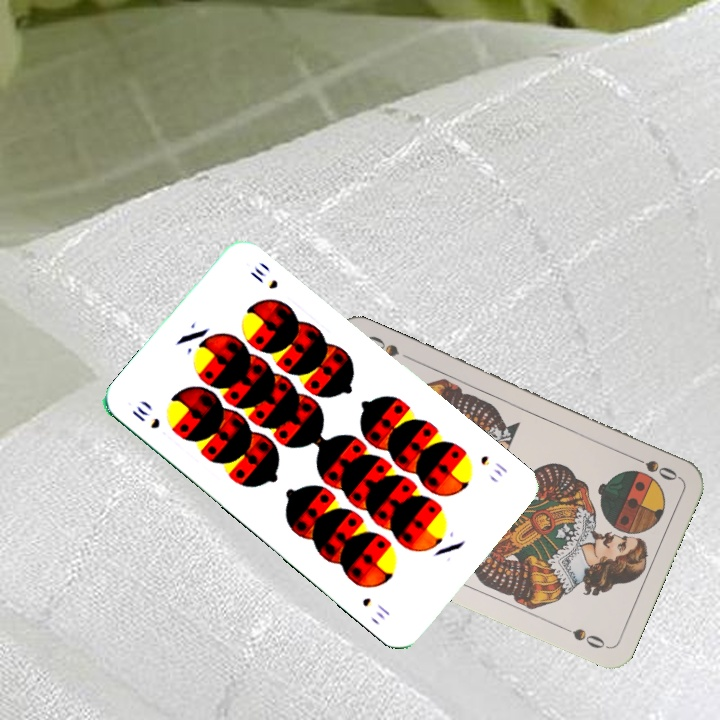S10: (127, 401, 163, 432), (476, 451, 510, 480)
SO: (625, 451, 681, 484)
